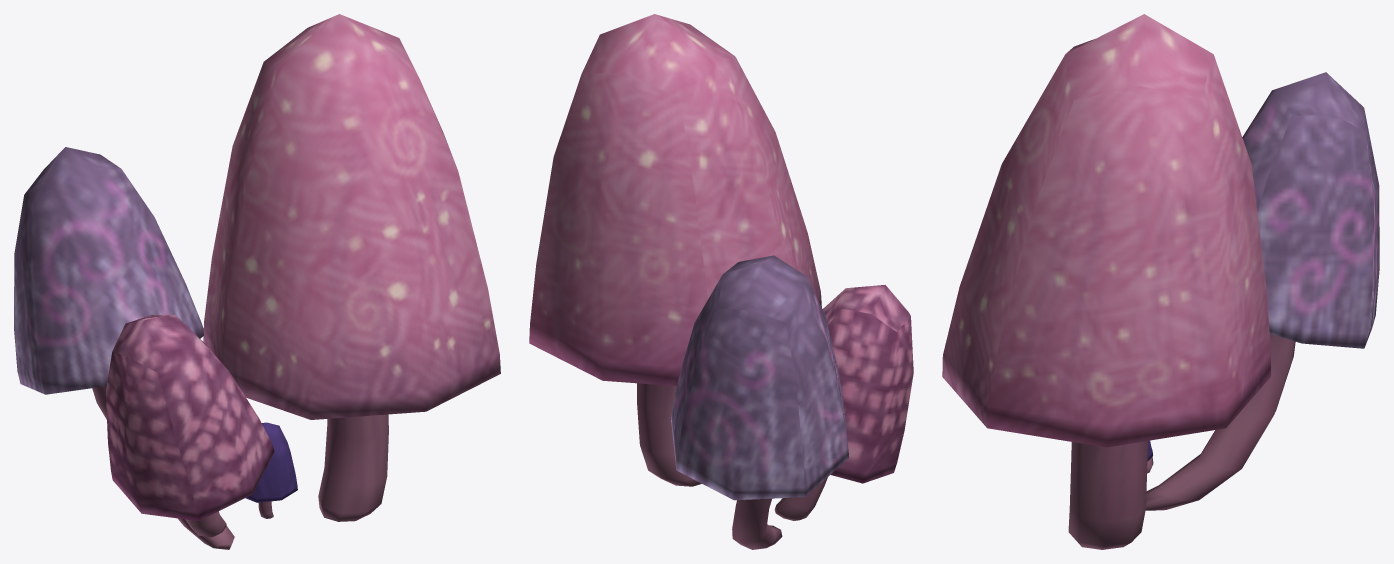
Rendered from ClusterShrooms.fbx.
3 views of the same model, side by side, from view 1: azimuth 30°, elevation 25°; view 2: azimuth 150°, elevation 25°; view 3: azimuth 270°, elevation 25° (orthographic). The views are drawn at different scales.
Parts seen in each view (by area): view 1: Clustertall; view 2: Clustertall; view 3: Clustertall.
Boxes of the visible parts, x1,y1,x2,y2 form: Clustertall: [14, 14, 500, 549]; Clustertall: [529, 14, 913, 549]; Clustertall: [942, 14, 1379, 549].
Bounding box in the file's own units: 7.01 × 9.06 × 6.43.
